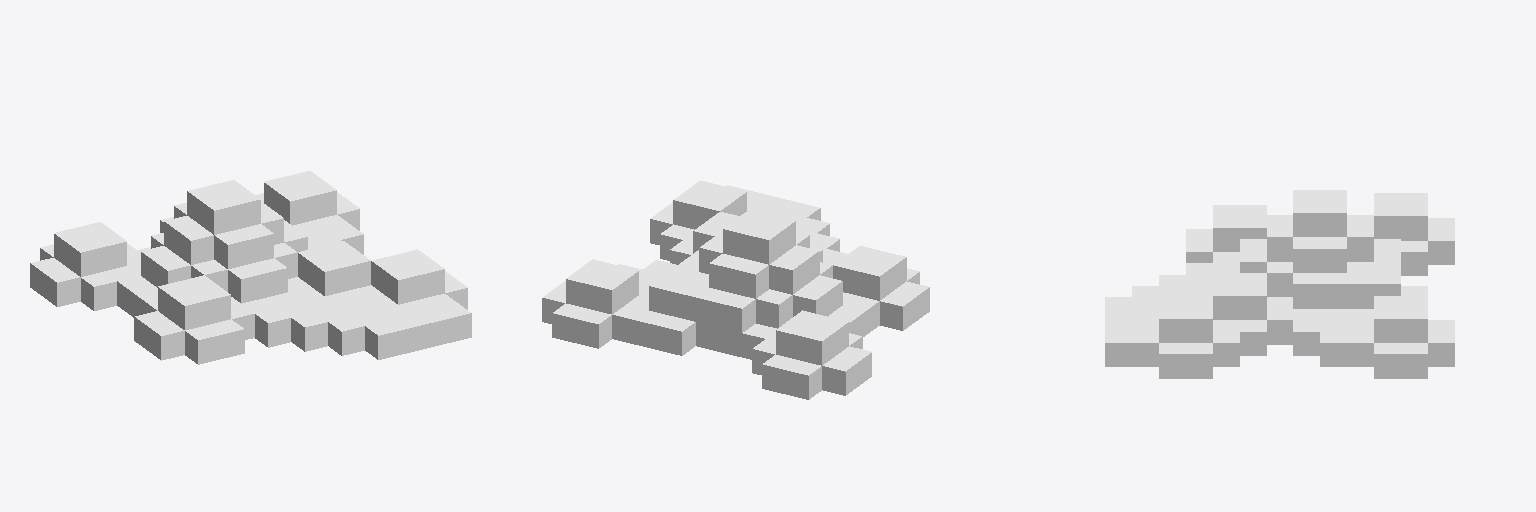
File: trash_pile_colorful.obj
3 views of the same model, side by side, from view 1: azimuth 30°, elevation 25°; view 2: azimuth 150°, elevation 25°; view 3: azimuth 270°, elevation 25° (orthographic).
Visible parts, largest first — view 1: trash_pile_colorful; view 2: trash_pile_colorful; view 3: trash_pile_colorful.
Boxes of the visible parts, <box> form: trash_pile_colorful: <box>30,171,471,364</box>; trash_pile_colorful: <box>542,180,929,399</box>; trash_pile_colorful: <box>1105,190,1454,378</box>.
Size of the model in its own units: 13 by 4 by 13.